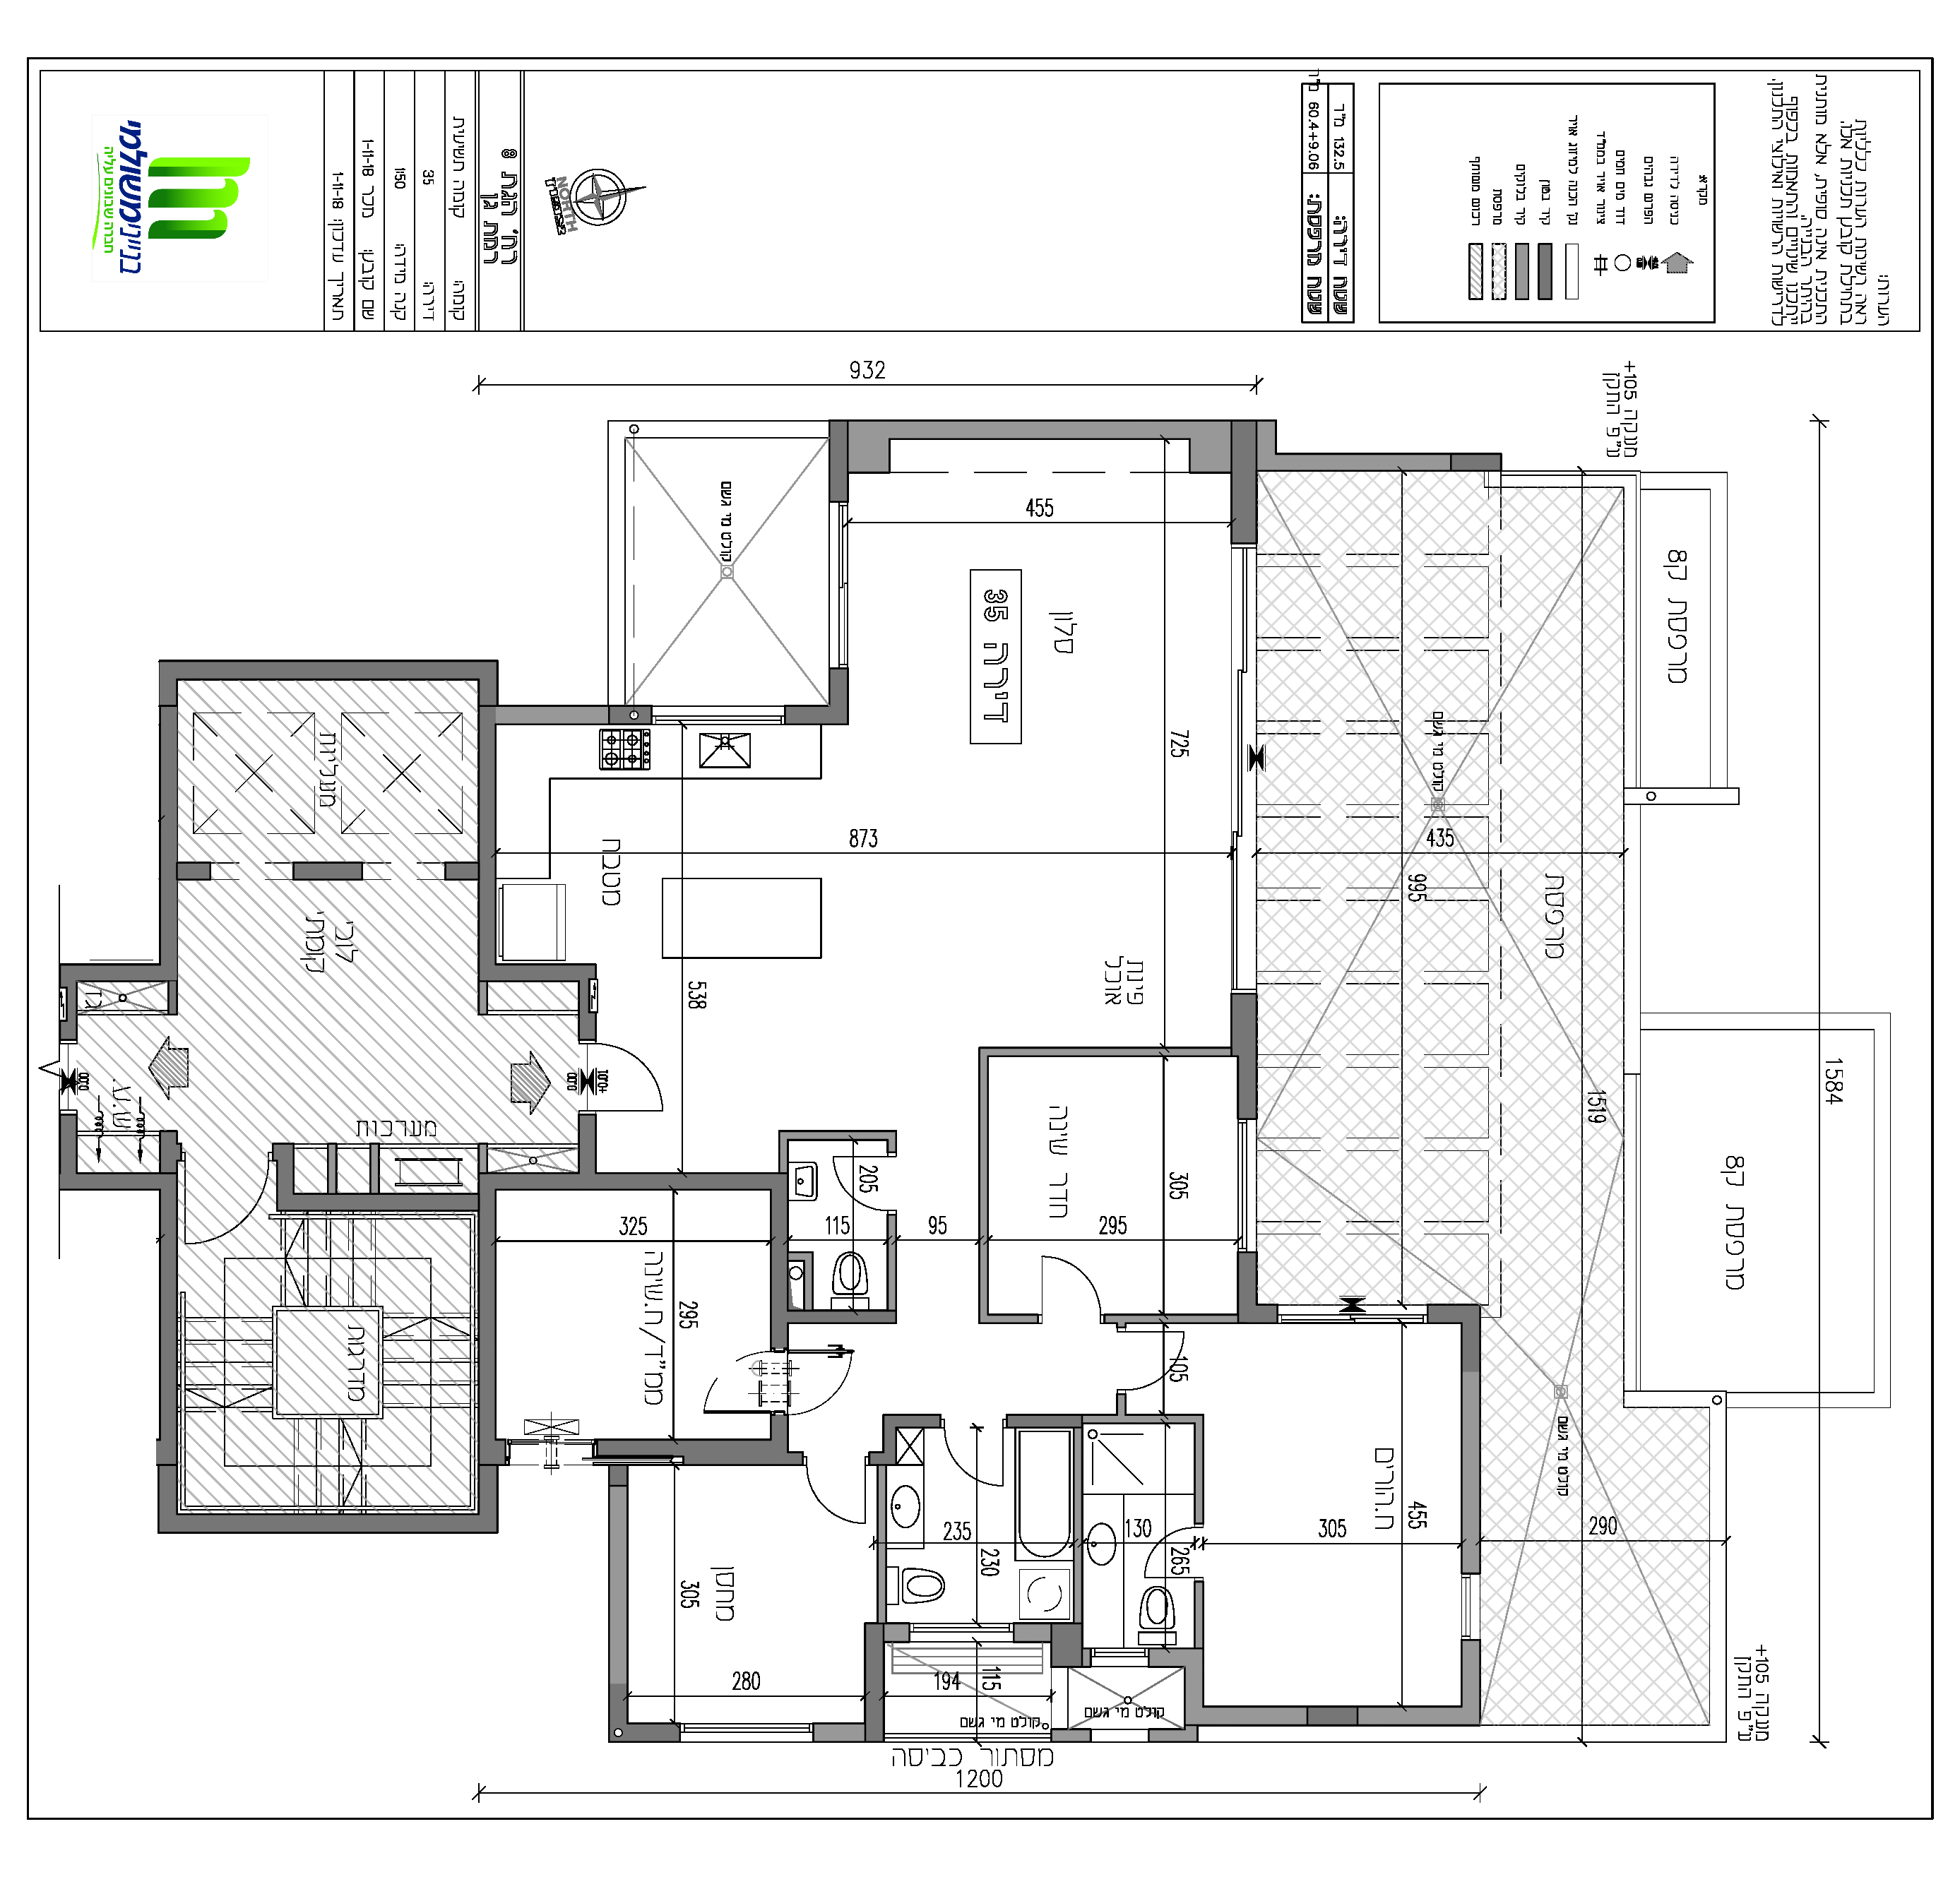door: (180, 1170, 268, 1247), (1027, 1244, 1118, 1307), (609, 1036, 670, 1125), (795, 1468, 868, 1539), (1131, 1328, 1199, 1405), (931, 1436, 1010, 1503), (833, 1146, 882, 1216), (1141, 1522, 1193, 1581)
md: (32, 387, 1783, 1805)
rd: (12, 37, 1948, 362)
wall: (857, 420, 1230, 439), (159, 661, 497, 679), (163, 1517, 495, 1532), (161, 1177, 177, 1466), (161, 708, 175, 971), (1461, 1377, 1480, 1559), (480, 712, 492, 967), (483, 1176, 772, 1186), (611, 1494, 625, 1676), (1262, 455, 1444, 469), (483, 1176, 492, 1459), (280, 1195, 469, 1207), (865, 1623, 884, 1741), (863, 1622, 882, 1739), (600, 1441, 780, 1454), (1234, 425, 1253, 534), (1185, 1707, 1302, 1725), (690, 1441, 784, 1461), (775, 1177, 786, 1343), (1363, 1709, 1477, 1723), (59, 1176, 170, 1190), (59, 1114, 79, 1188), (1461, 1643, 1479, 1721), (1241, 999, 1253, 1109), (485, 967, 595, 980), (294, 861, 362, 880), (980, 1050, 987, 1230), (613, 1569, 623, 1683), (1239, 1256, 1257, 1322), (1428, 1305, 1477, 1322), (1186, 1655, 1199, 1720), (877, 1548, 887, 1623), (1008, 1415, 1082, 1426), (583, 1118, 593, 1184), (788, 708, 842, 721), (980, 1314, 1036, 1324), (280, 1146, 290, 1202), (1239, 1305, 1276, 1321), (884, 1415, 938, 1426), (831, 673, 844, 719), (980, 1249, 987, 1321), (581, 969, 588, 1037), (775, 1419, 786, 1461), (878, 1466, 884, 1536), (373, 1146, 378, 1193), (329, 1146, 334, 1191)
window: (817, 495, 861, 673), (676, 1713, 819, 1753), (641, 700, 789, 735), (1227, 1114, 1263, 1254), (906, 1616, 1015, 1648), (1454, 1569, 1489, 1644), (1088, 1643, 1150, 1669)
